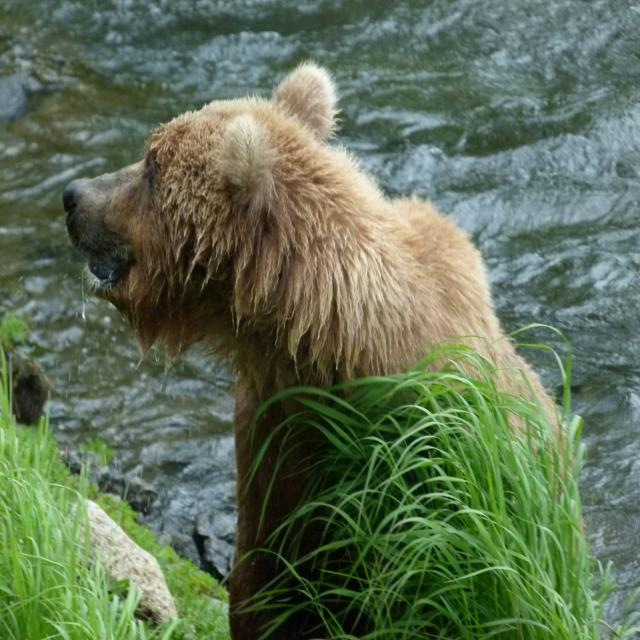bear face: (64, 61, 571, 373)
